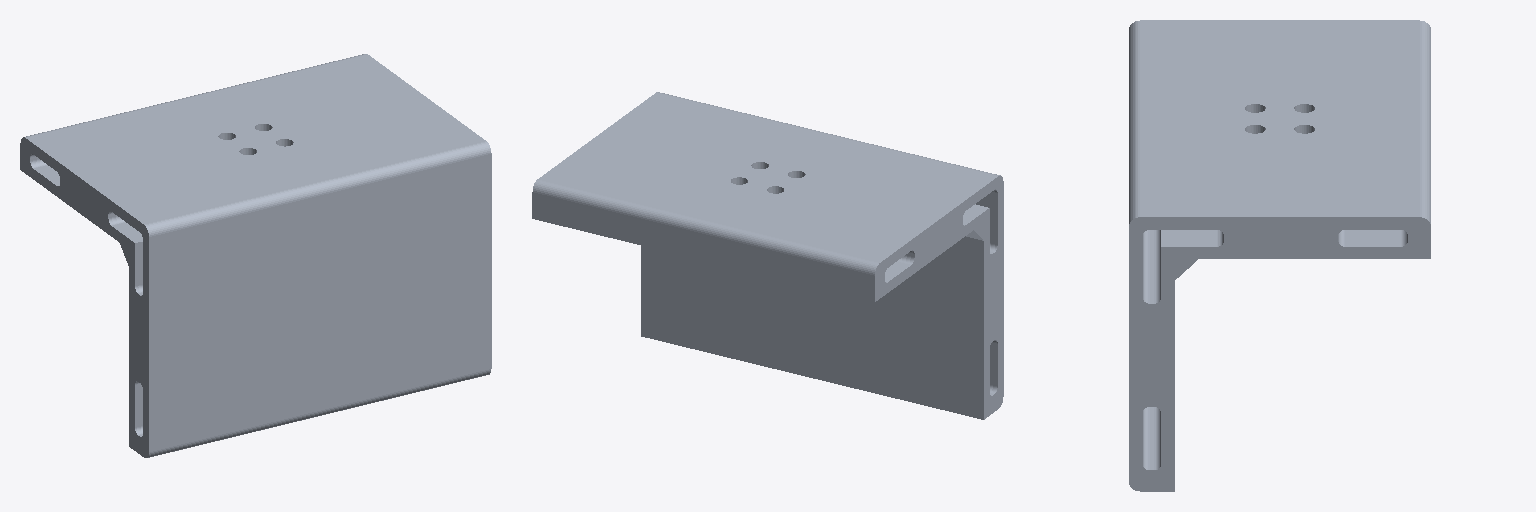
robot.urdf — intrinsic_test_v4:
<?xml version="1.0" encoding="utf-8"?>
<robot name="intrinsic_test_v4">
  <link name="map"/>

  <link name="base_link">
    <visual>
      <origin xyz="-0.11 0.064 -0.1" rpy="0 0 -1.57079632679"/>
      <geometry>
        <mesh filename="package://REACT_intrinsic/meshes/intrinsic_test_v4.STL" scale="1 1 1"/>
      </geometry>
      <material name="test_surface_gray">
        <color rgba="0.72 0.75 0.80 1.0"/>
      </material>
    </visual>
  </link>

  <joint name="map_to_base_link" type="fixed">
    <parent link="map"/>
    <child link="base_link"/>
  </joint>
</robot>

--- Facts derived from the render (not from the file) ---
The picture shows the robot from 3 angles, left to right: view 1: azimuth 30°, elevation 25°; view 2: azimuth 150°, elevation 25°; view 3: azimuth 270°, elevation 25°; orthographic projection.
Model intrinsic_test_v4 with 2 links and 1 joints (1 fixed), rooted at map, posed all joints at 0.
Links seen in each view (by area): view 1: base_link; view 2: base_link; view 3: base_link.
Link boxes in pixels (<box>): base_link: <box>20,54,491,457</box>; base_link: <box>532,92,1003,419</box>; base_link: <box>1129,20,1430,491</box>.
Bounding box of the posed robot: 0.2 × 0.13 × 0.13 m (x, y, z).
1 mesh visuals loaded from 1 distinct referenced files (1 binary STL).
